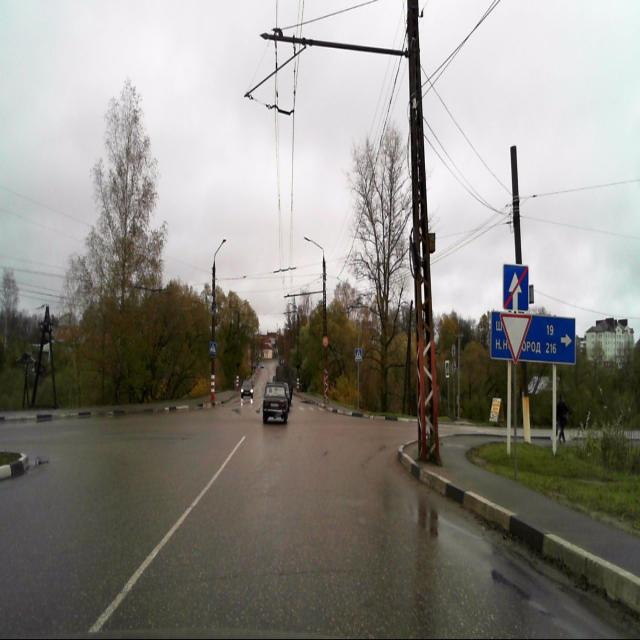road sign: (498, 312, 532, 365), (503, 263, 530, 309)
